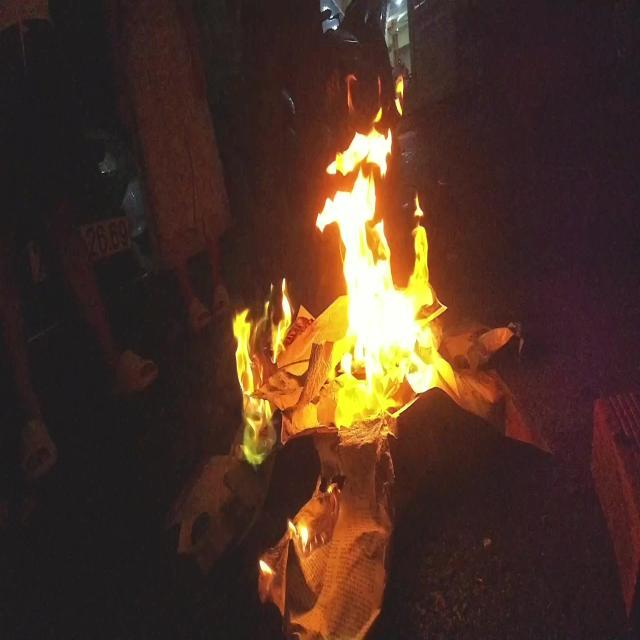Fire: (232, 71, 460, 471), (288, 519, 308, 553), (260, 552, 274, 580)
